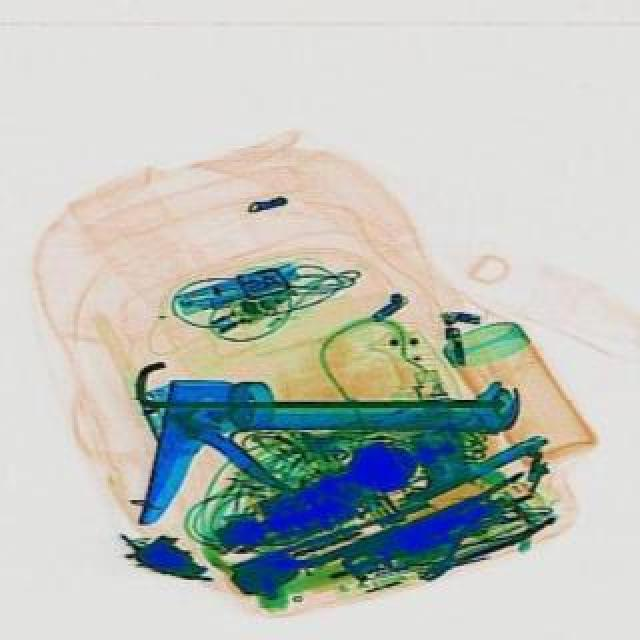wrench: (414, 482, 562, 596)
